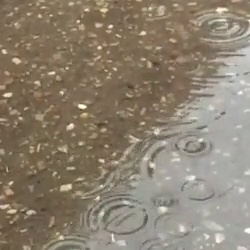drop: (86, 195, 149, 237), (191, 10, 250, 43), (153, 213, 193, 237), (182, 178, 215, 202), (178, 135, 210, 156), (45, 237, 91, 250), (139, 237, 186, 249), (144, 3, 172, 20)
